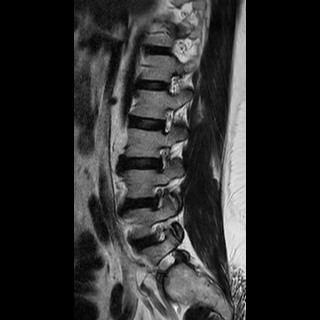RFS0: (145, 217, 172, 249), (150, 139, 172, 177), (145, 180, 168, 213), (155, 104, 177, 137)
